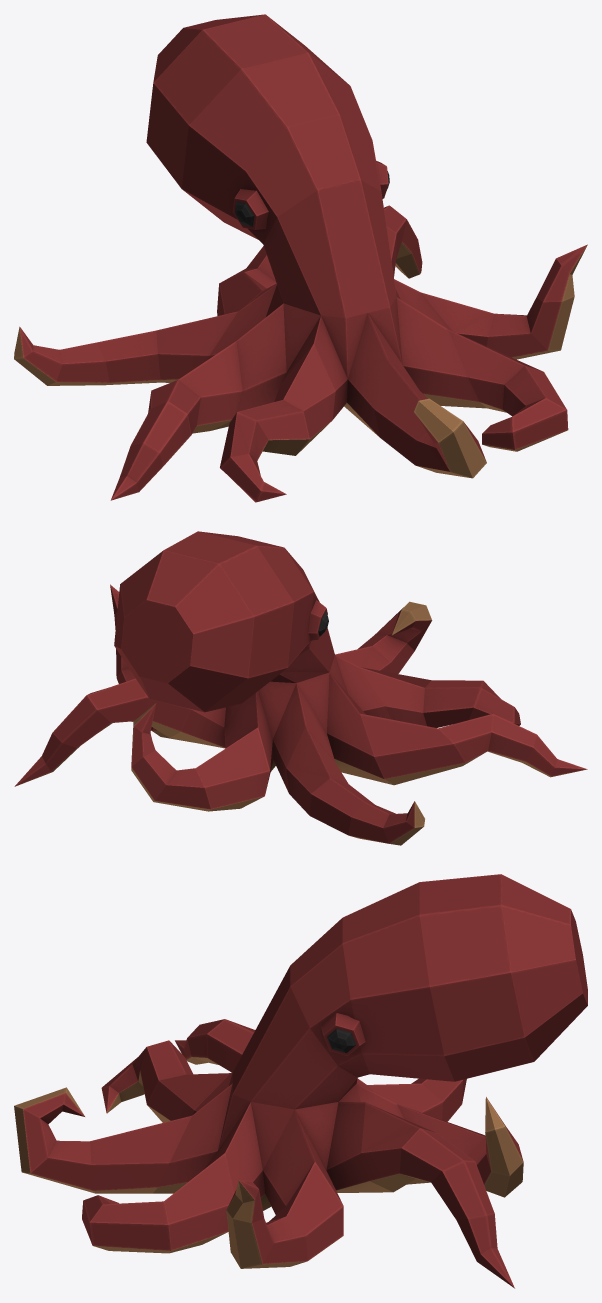
Rendered from Octopus.gltf.
3 views of the same model, one above another, from view 1: azimuth 30°, elevation 25°; view 2: azimuth 150°, elevation 25°; view 3: azimuth 270°, elevation 25° (orthographic). The views are drawn at different scales.
Visible parts, largest first — view 1: node-0; view 2: node-0; view 3: node-0.
Part boxes in pixels (x1,y1,x2,y2): node-0: (14,14,587,502); node-0: (14,531,587,845); node-0: (14,874,587,1288).
Size of the model in its own units: 17.74 by 10.08 by 17.24.
1 material, 1 textured.
